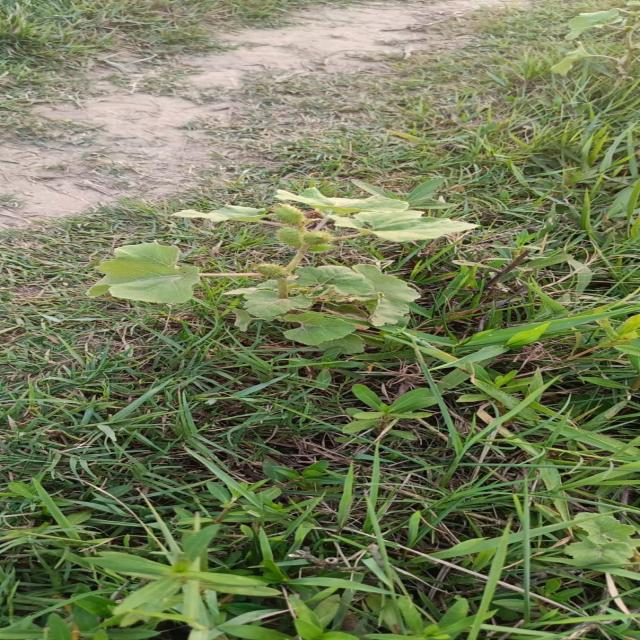plant: (173, 188, 478, 344), (89, 244, 220, 303)
